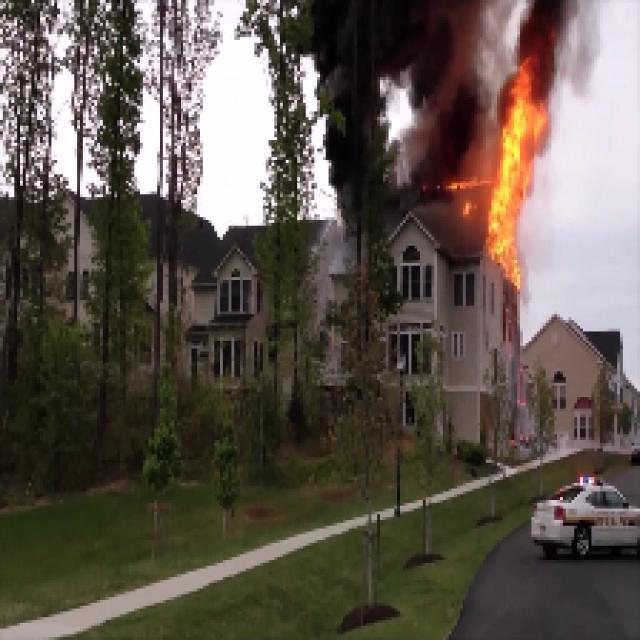Fire: (484, 68, 548, 275)
Smoke: (312, 2, 468, 182), (488, 0, 580, 57)
